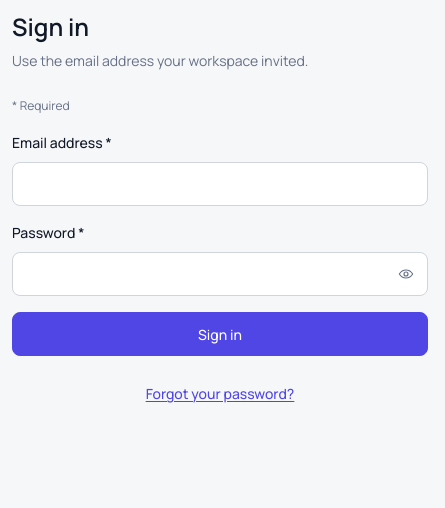
Scenario: LoginForm › shows a neutral line rather than the API’s own message for an unmapped failure
The width and height of the screenshot is (445, 508).
In the field labelled "Email address *": (220, 184) [12,162,428,206], type "amina@northwind.example"
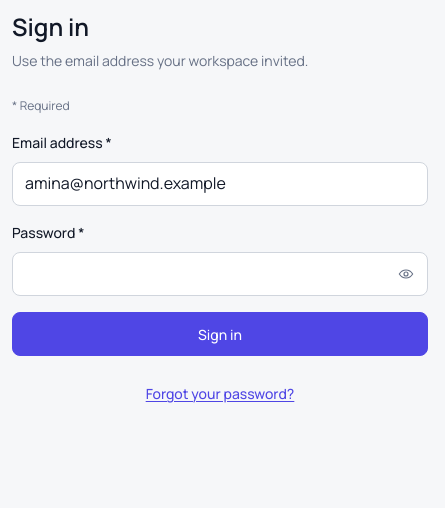
In the password field labelled "Password *": (220, 274) [12,252,428,296], type "correct horse battery"
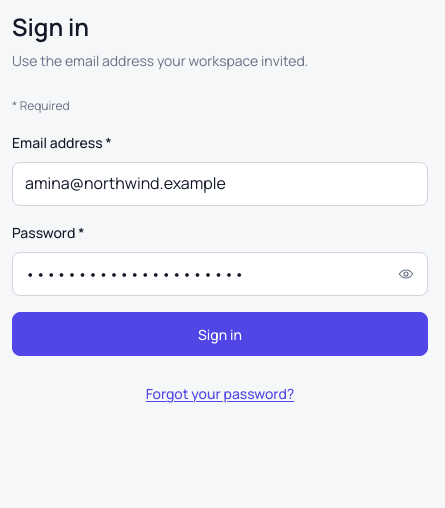
Click the button "Sign in": click(220, 334) [12,312,428,356]
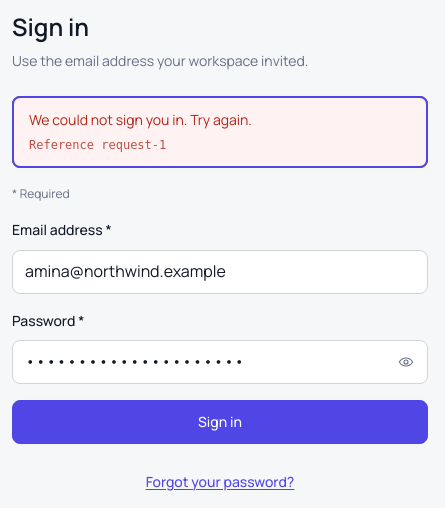
Expected: the message does not show "Server-side message", [12,96,428,168]
Expected: the message shows "We could not sign you in. Try again.", [29,110,252,129]
